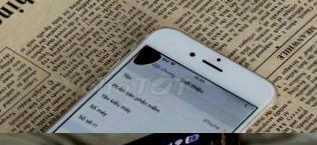physical_damage: (7, 133, 220, 145)
screen_defect: (133, 42, 184, 74)
